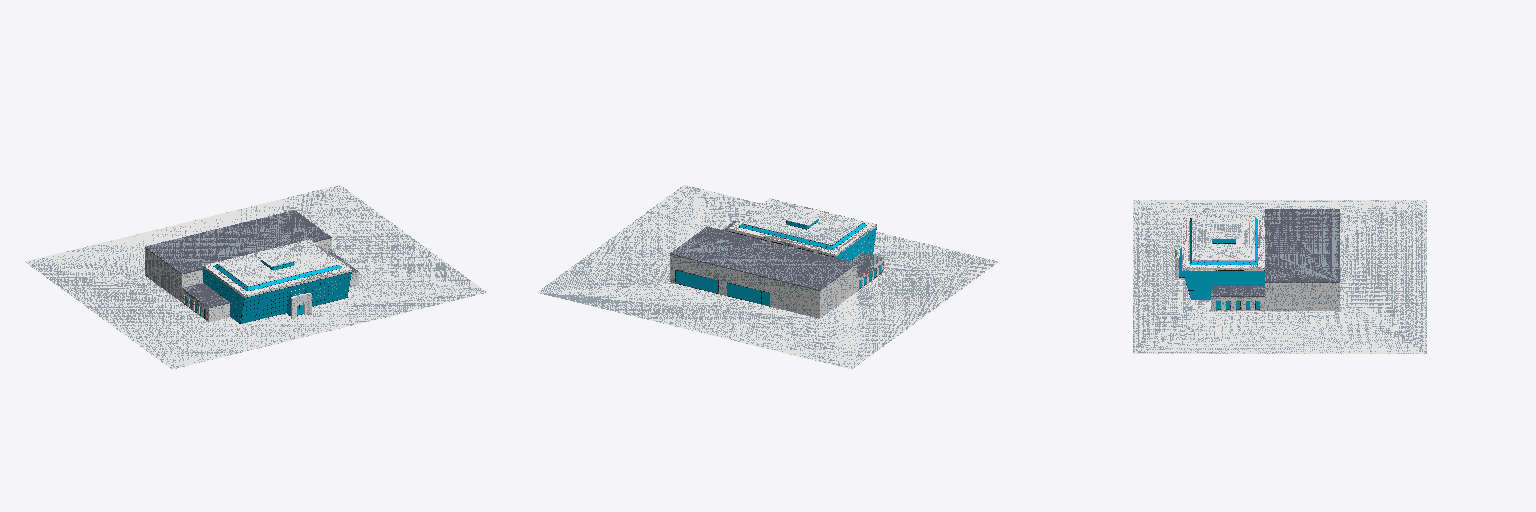
3 renders of one model, left to right at view 1: azimuth 30°, elevation 25°; view 2: azimuth 150°, elevation 25°; view 3: azimuth 270°, elevation 25°, orthographic.
Parts seen in each view (by area): view 1: Mesh167 Model; view 2: Mesh167 Model; view 3: Mesh167 Model.
Boxes of the visible parts, x1=… form: Mesh167 Model: x1=25, y1=185, x2=486, y2=369; Mesh167 Model: x1=537, y1=185, x2=998, y2=369; Mesh167 Model: x1=1133, y1=200, x2=1426, y2=353.
Size of the model in its own units: 73.56 by 9.47 by 59.54.
Materials: 20 (2 with a texture image).